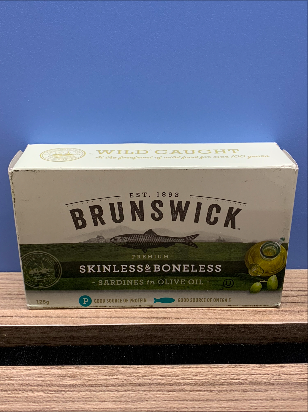Sardines_100-199g: (24, 155, 285, 306)
